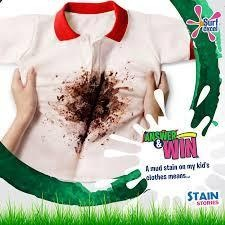earth: (68, 76, 117, 125)
